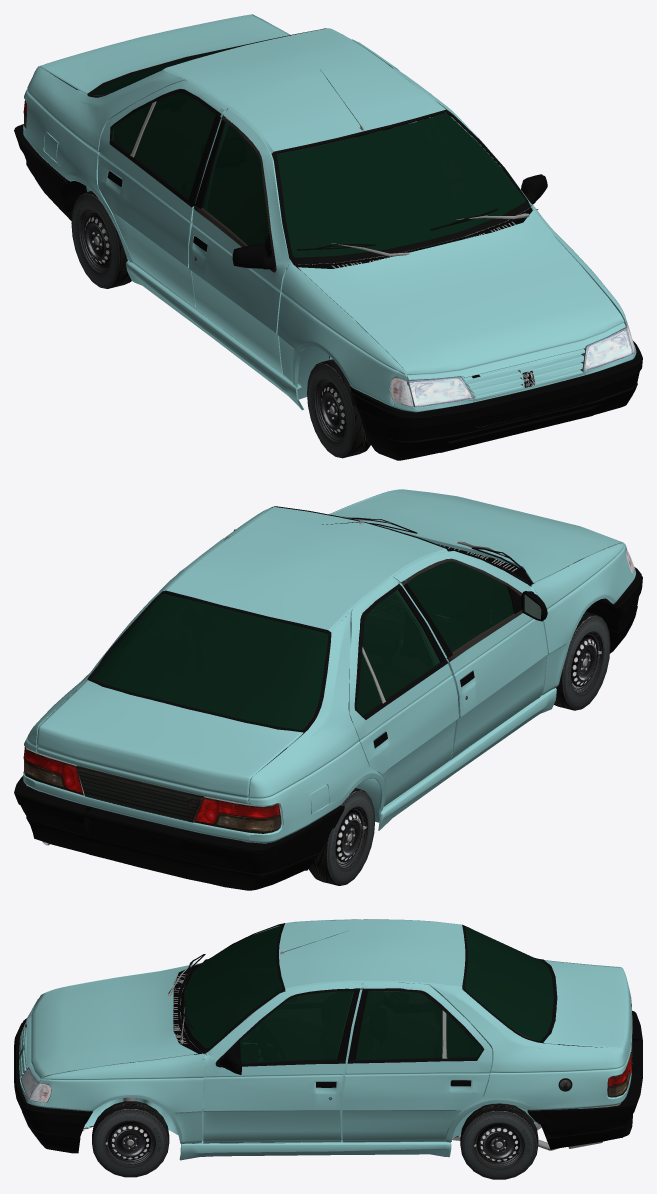
3 renders of one model, top to bottom at view 1: azimuth 30°, elevation 25°; view 2: azimuth 150°, elevation 25°; view 3: azimuth 270°, elevation 25°, orthographic. The views are drawn at different scales.
Parts seen in each view (by area): view 1: MainBody, Coclpit, Line020, FrontBumper, DoorRR, DoorFR, FrontFender, RearSanoughDoor, RRWin, FRWin, WheelFR, WheelRR (+9 smaller); view 2: MainBody, Line021, RearSanoughDoor, RearBumper, DoorRR, DoorFR, Coclpit, FrontFender, FRWin, RRWin, WheelRR, WheelFR (+6 smaller); view 3: MainBody, DoorRL, DoorFL, Coclpit, FrontFenderR, Line020, Line021, RearSanoughDoor, FLWin, RLWin, WheelRL, WheelFL (+5 smaller).
Part boxes in pixels (<box>): MainBody: <box>23,14,533,399</box>; Coclpit: <box>298,210,625,379</box>; Line020: <box>276,113,525,257</box>; FrontBumper: <box>350,341,642,460</box>; DoorRR: <box>98,80,227,309</box>; DoorFR: <box>189,108,291,376</box>; FrontFender: <box>277,264,406,407</box>; RearSanoughDoor: <box>39,14,289,94</box>; RRWin: <box>134,93,215,198</box>; FRWin: <box>203,122,269,245</box>; WheelFR: <box>307,359,370,458</box>; WheelRR: <box>71,191,131,288</box>; MainBody: <box>23,506,614,843</box>; Line021: <box>92,593,328,729</box>; RearSanoughDoor: <box>36,680,303,822</box>; RearBumper: <box>14,775,344,890</box>; DoorRR: <box>349,578,458,806</box>; DoorFR: <box>393,551,547,760</box>; Coclpit: <box>330,489,623,583</box>; FrontFender: <box>531,543,634,695</box>; FRWin: <box>407,561,514,652</box>; RRWin: <box>362,590,440,699</box>; WheelRR: <box>309,788,375,885</box>; WheelFR: <box>554,612,610,710</box>; MainBody: <box>43,919,632,1160</box>; DoorRL: <box>342,982,492,1141</box>; DoorFL: <box>203,982,361,1143</box>; Coclpit: <box>26,963,197,1081</box>; FrontFenderR: <box>39,1053,206,1144</box>; Line020: <box>184,925,282,1048</box>; Line021: <box>465,926,553,1040</box>; RearSanoughDoor: <box>543,960,632,1066</box>; FLWin: <box>240,991,353,1063</box>; RLWin: <box>355,991,442,1060</box>; WheelRL: <box>460,1103,538,1179</box>; WheelFL: <box>92,1101,169,1177</box>.
Size of the model in its own units: 1.99 by 1.55 by 4.41.
